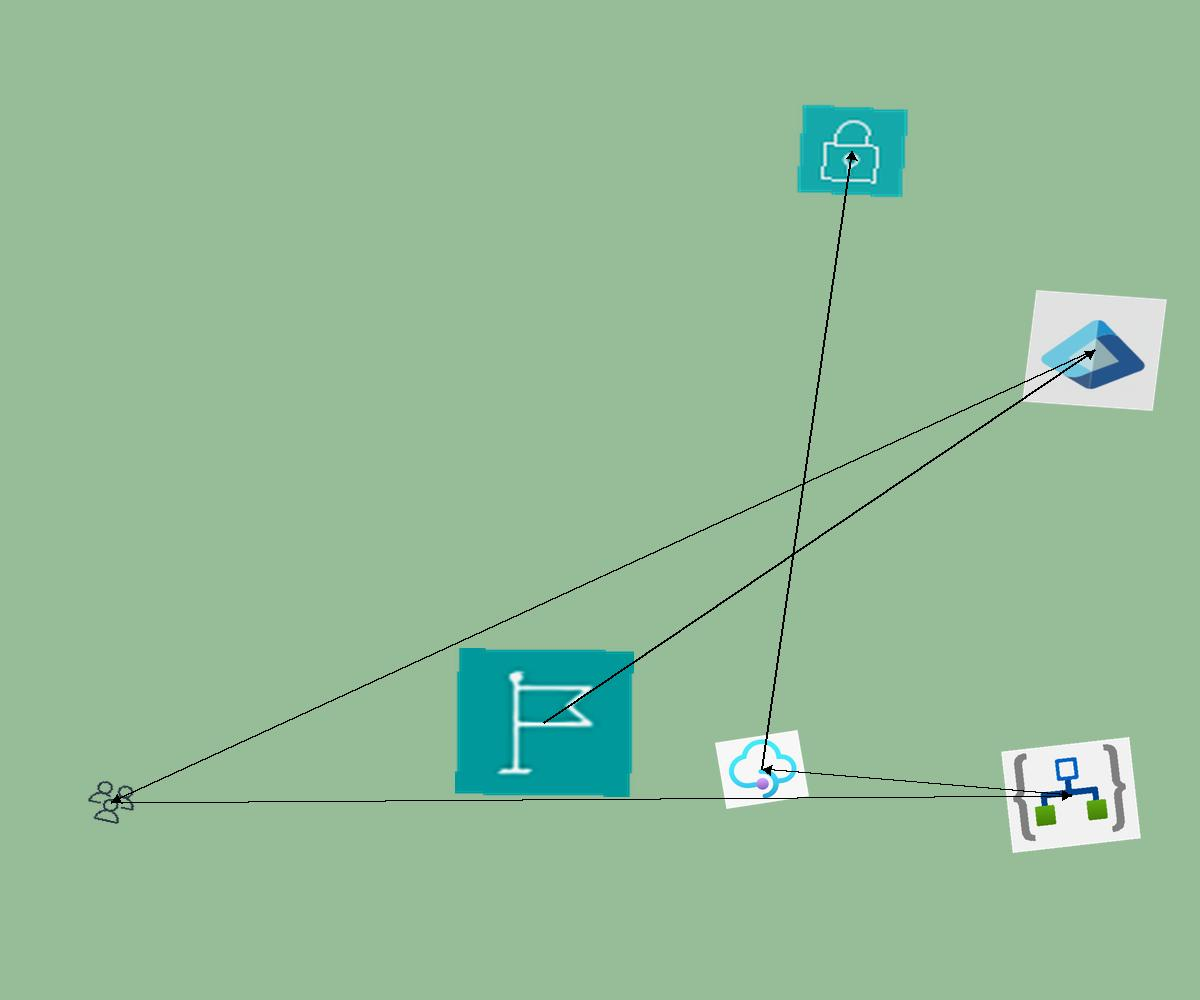AWS-Private-subnet: (795, 103, 910, 199)
AWS-Region: (455, 648, 634, 797)
AWS-Res_Users: (80, 776, 143, 829)
Azure_api_gateway: (715, 730, 809, 809)
Azure_integration-204-Logic-Apps: (1001, 737, 1141, 853)
Azure_microsoft_entra: (1022, 290, 1167, 411)
